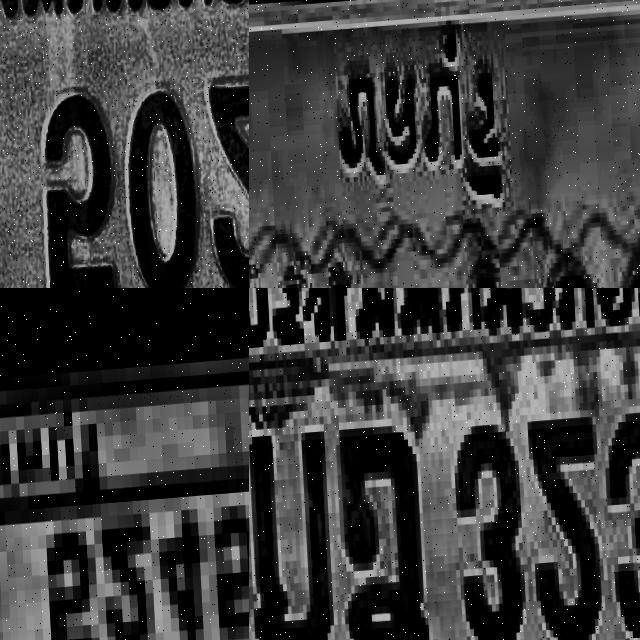license-plate: (249, 288, 640, 640), (249, 0, 640, 288), (0, 288, 249, 640), (0, 0, 249, 288)
